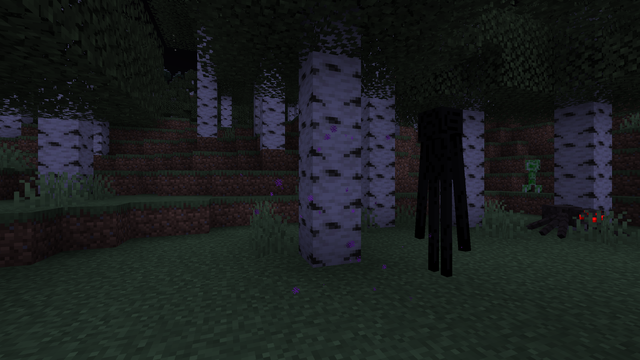araignees: (531, 202, 621, 243)
creepers: (522, 157, 543, 191)
endermens: (414, 99, 467, 280)
